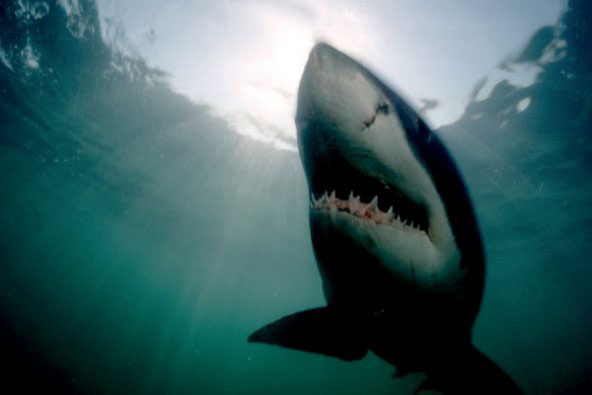Carcharodon_carcharias: (250, 31, 537, 395)
